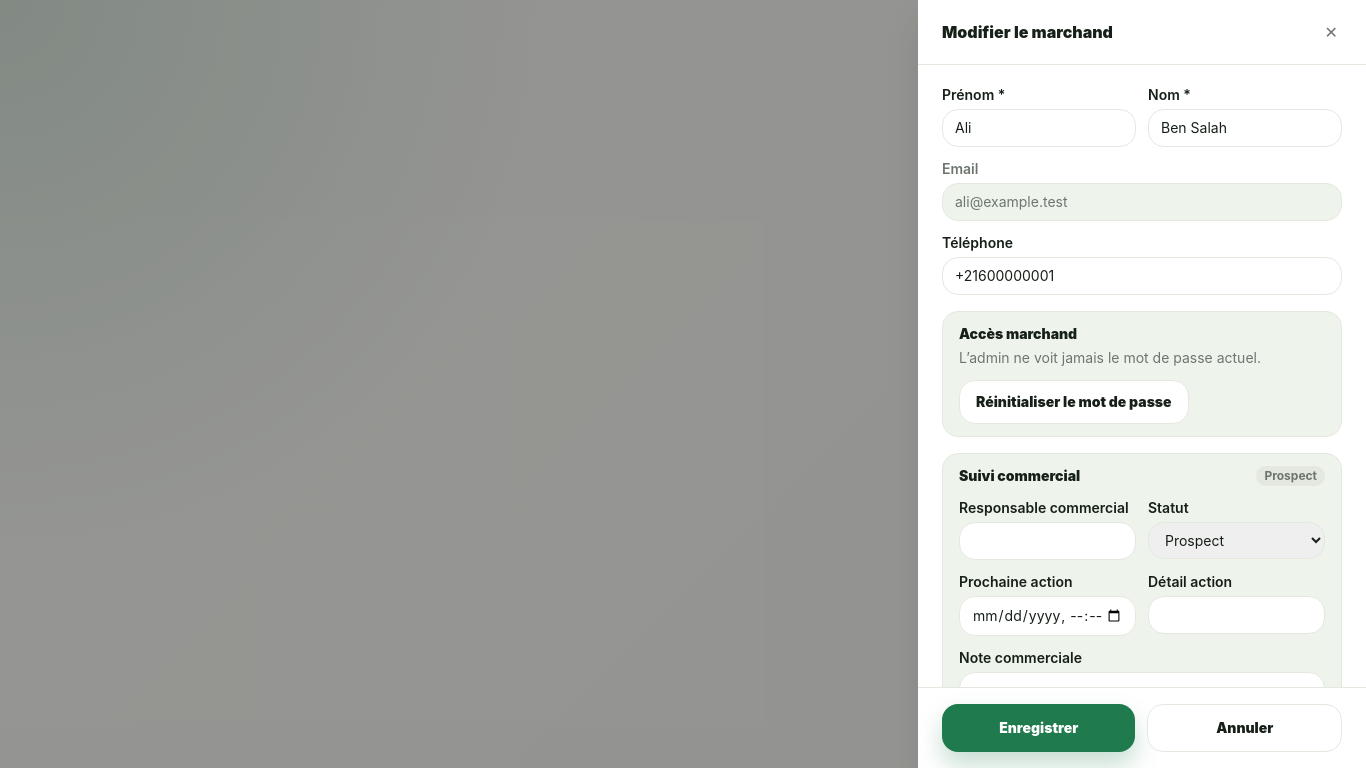
Test: MerchantDrawer › affiche une erreur proprement quand le reset échoue
Click the button "Réinitialiser le mot de passe" at (1074, 402), box [959,380,1189,424]
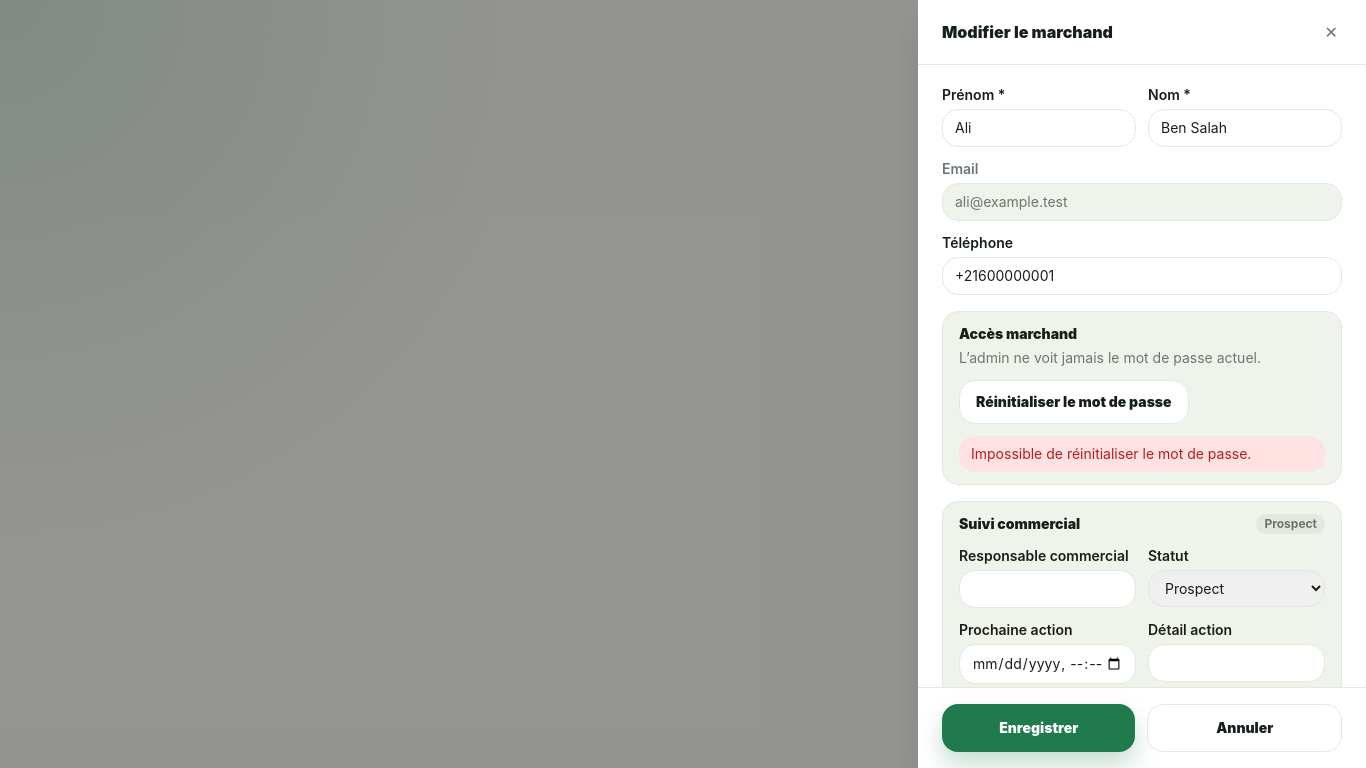
Result: the text "Impossible de réinitialiser le mot de passe." is shown at [959,436,1325,472]
